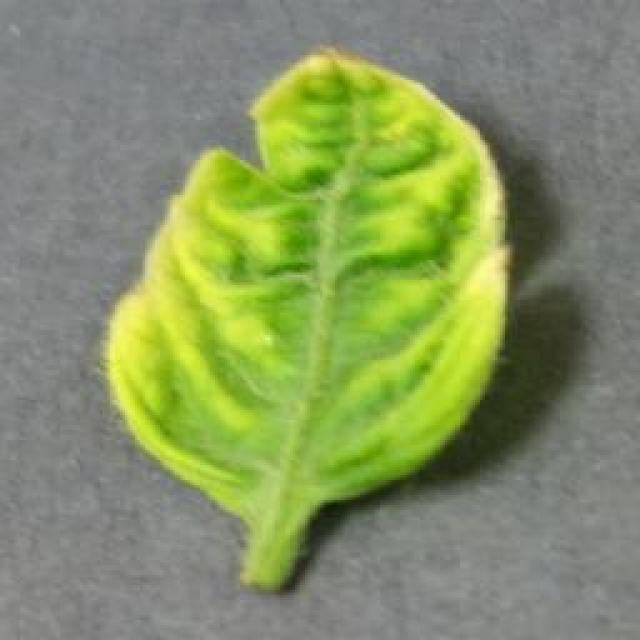Tomato yellow virus leaf: (100, 41, 514, 516)
